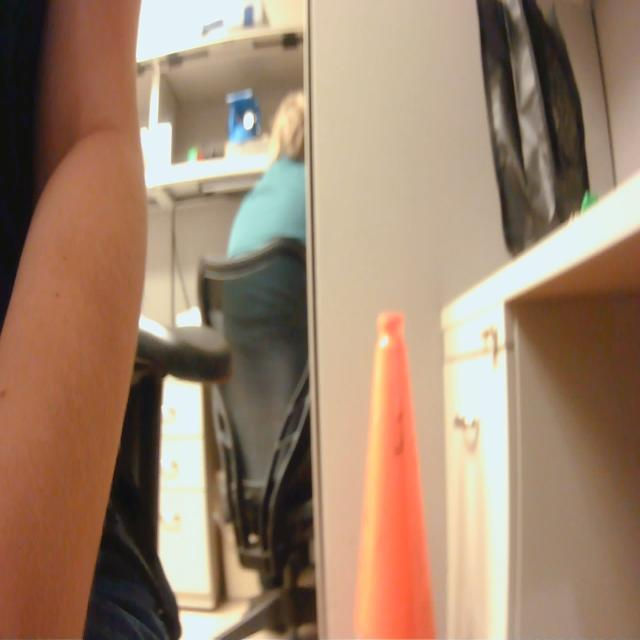traffic cone: (347, 308, 449, 640)
